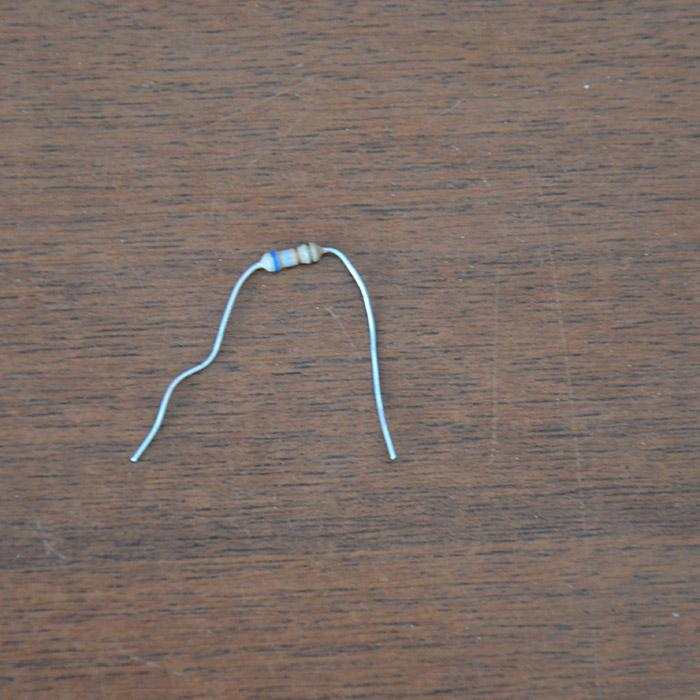resistor: (260, 242, 321, 272)
